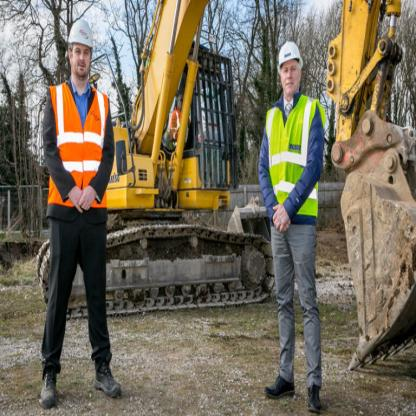person: (24, 11, 127, 407), (255, 23, 341, 410)
